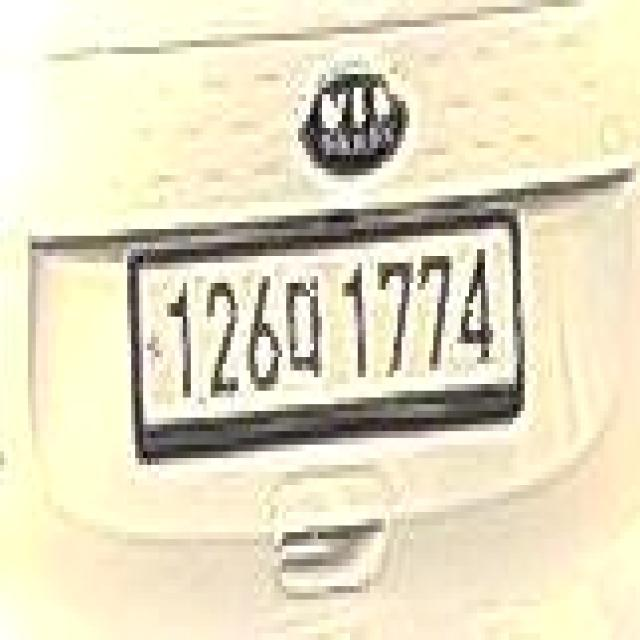illegal_plate: (127, 208, 528, 455)
